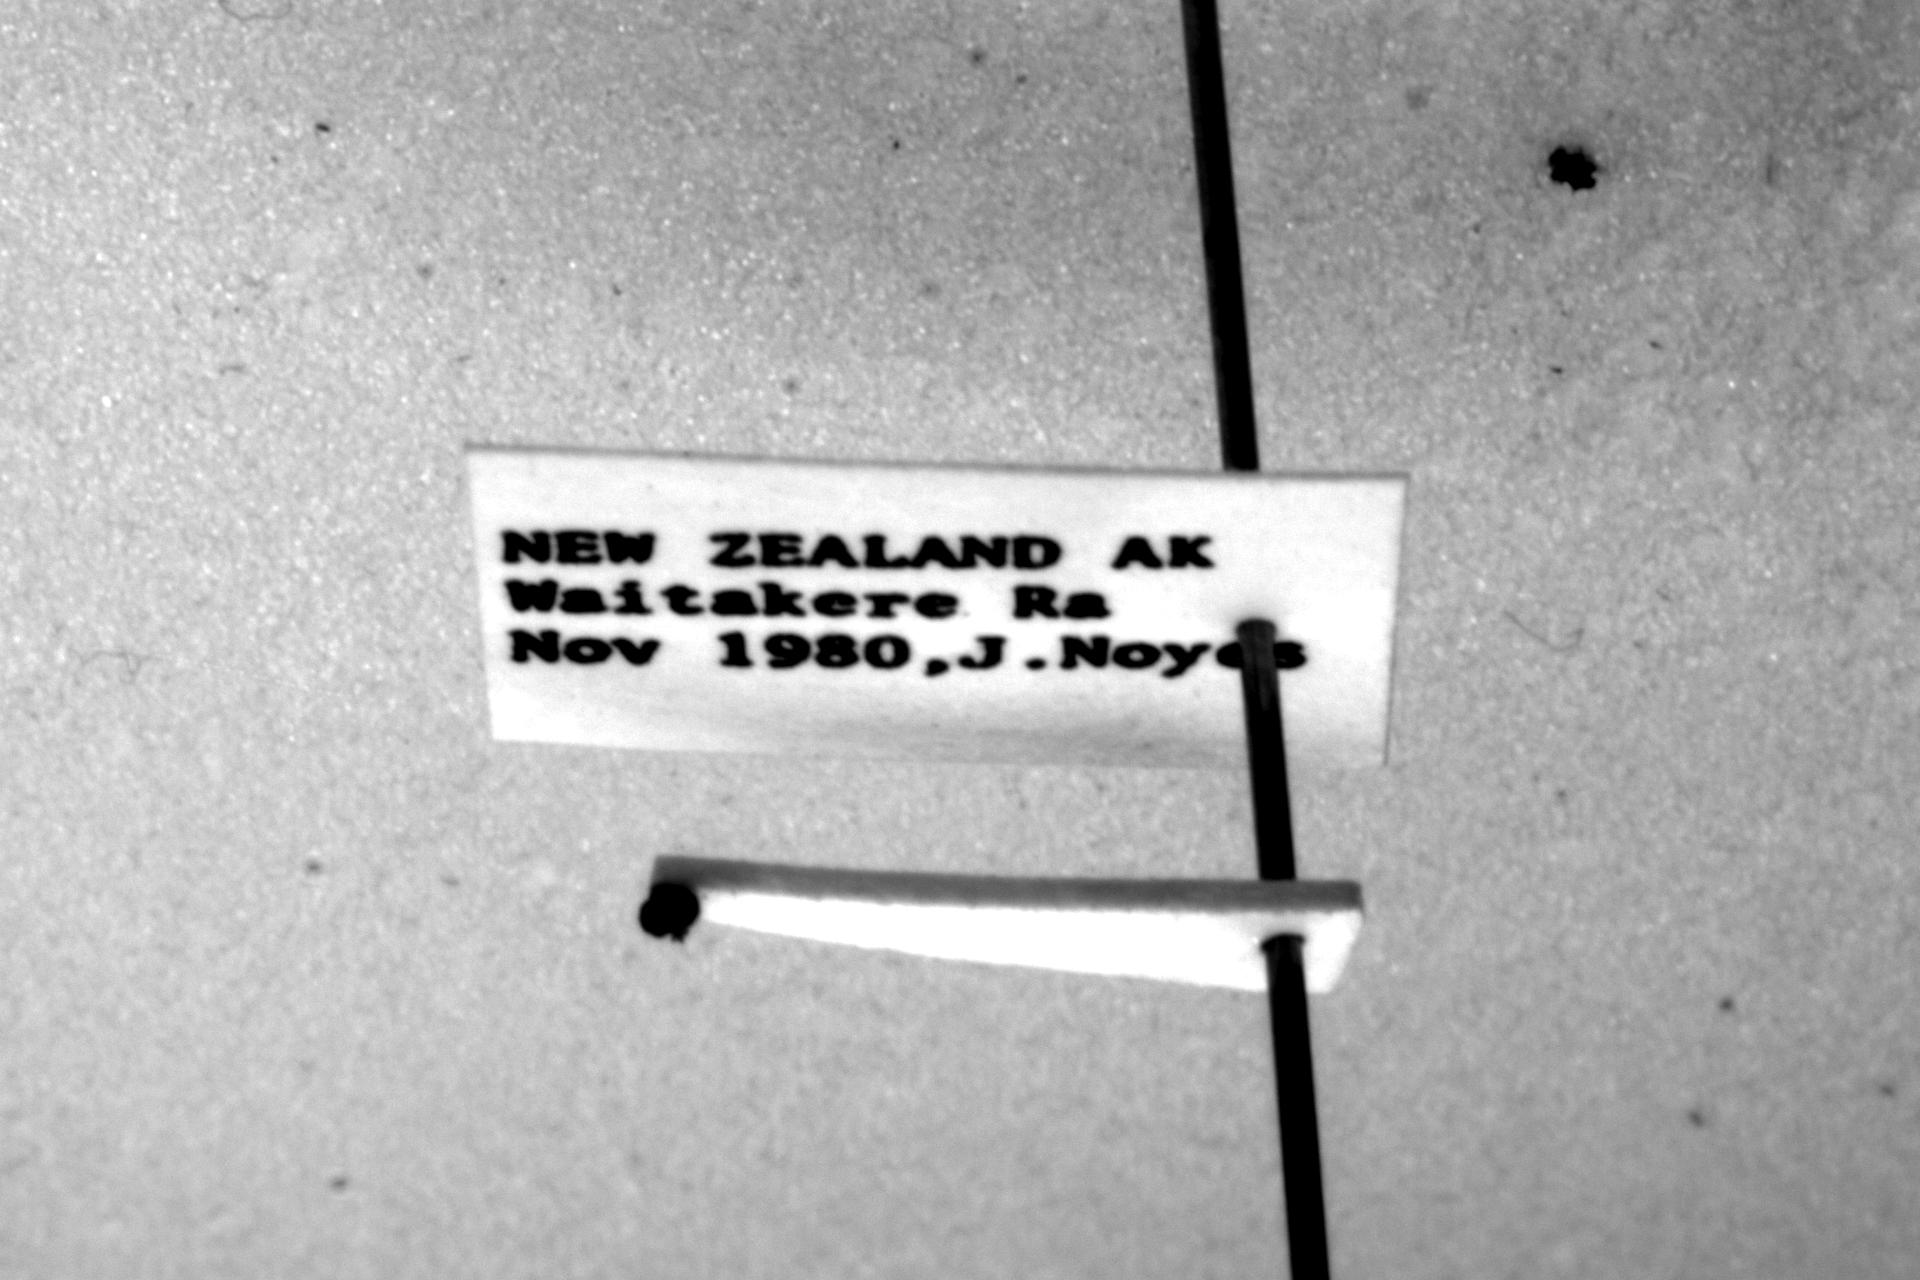typed_label: (469, 446, 1406, 766)
